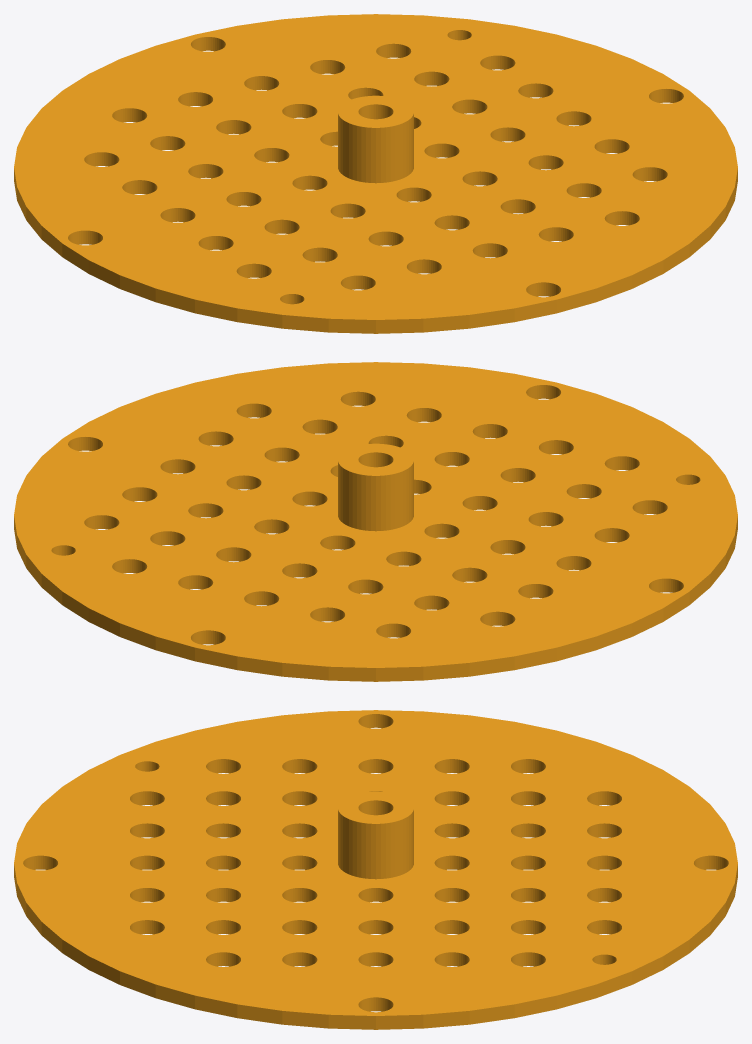
Rendered from maza-grande.glb.
3 views of the same model, one above another, from view 1: azimuth 30°, elevation 25°; view 2: azimuth 150°, elevation 25°; view 3: azimuth 270°, elevation 25° (orthographic).
Visible parts, largest first — view 1: geometry_0; view 2: geometry_0; view 3: geometry_0.
Part boxes in pixels (x1,y1,x2,y2): geometry_0: (14, 14, 737, 333); geometry_0: (14, 362, 737, 681); geometry_0: (14, 710, 737, 1029).
Bounding box in the file's own units: 0.095 × 0.01 × 0.095.
